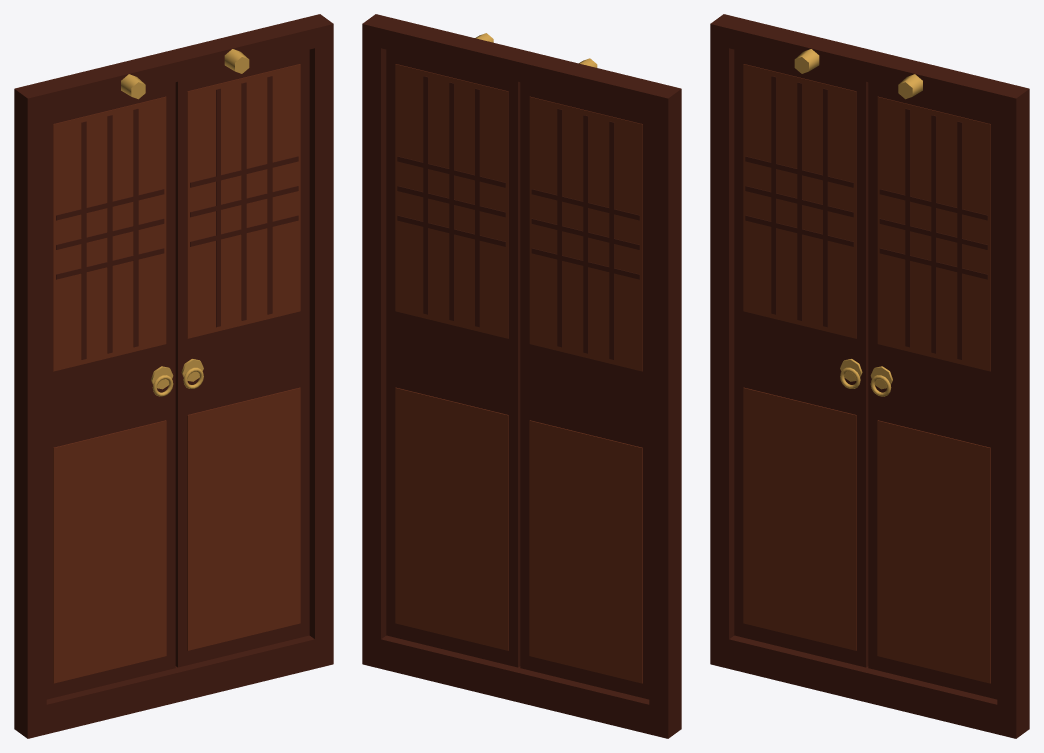
The model's file is pal1-inn-door.glb.
3 renders of one model, left to right at view 1: azimuth 30°, elevation 25°; view 2: azimuth 150°, elevation 25°; view 3: azimuth 330°, elevation 25°, orthographic.
Visible parts, largest first — view 1: Pal1InnDoor; view 2: Pal1InnDoor; view 3: Pal1InnDoor.
Boxes of the visible parts, x1,y1,x2,y2 form: Pal1InnDoor: (14, 14, 333, 738); Pal1InnDoor: (362, 14, 681, 738); Pal1InnDoor: (710, 14, 1029, 738).
Size of the model in its own units: 1.3 by 2.6 by 0.17.
